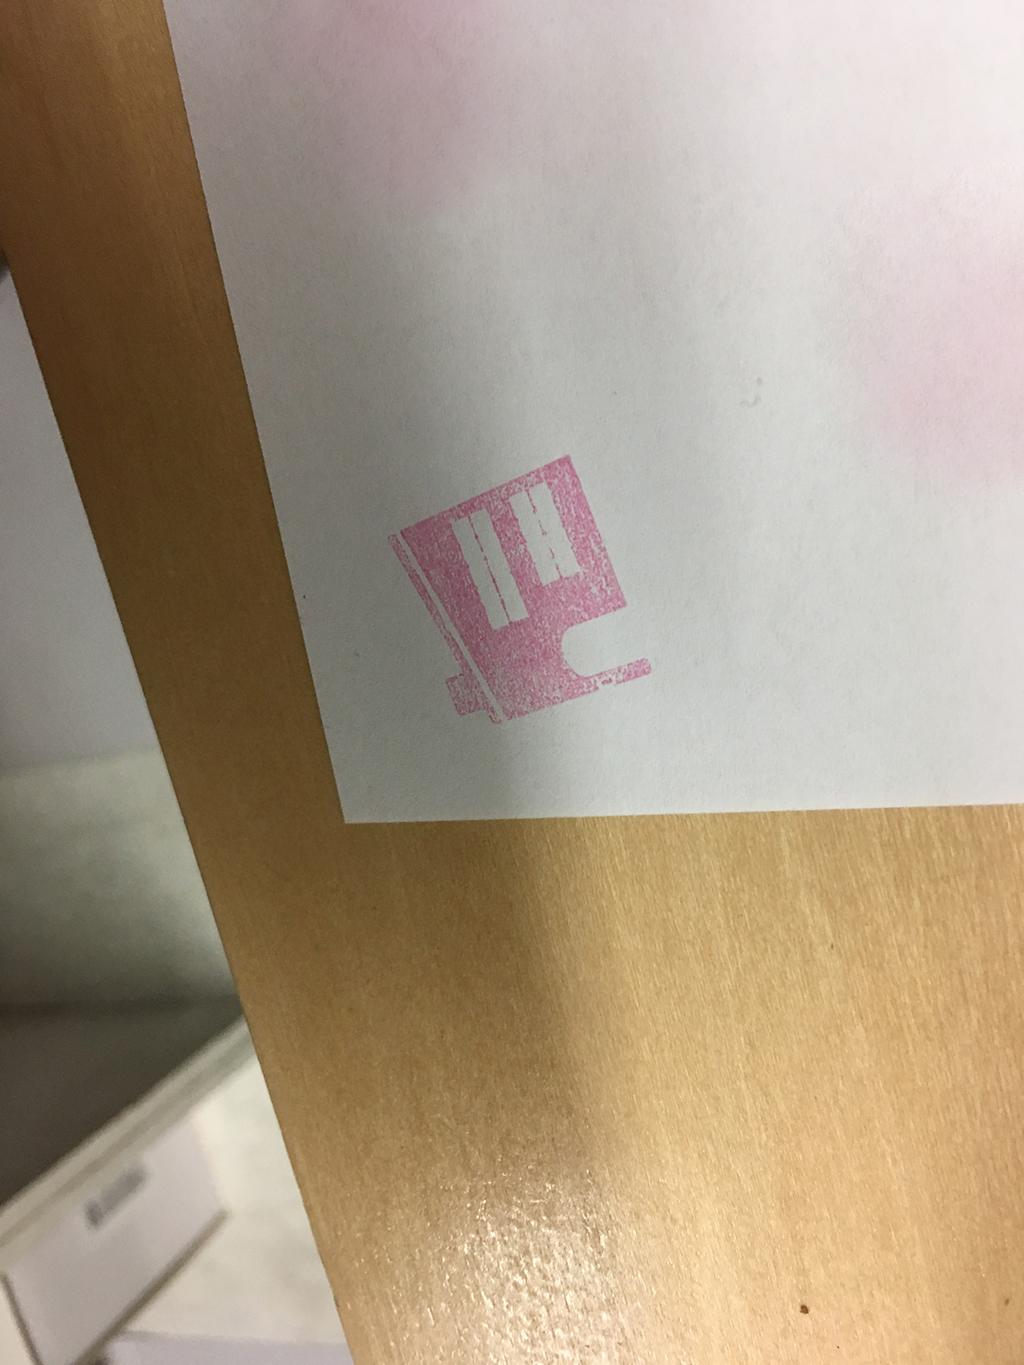house: (350, 442, 681, 738)
